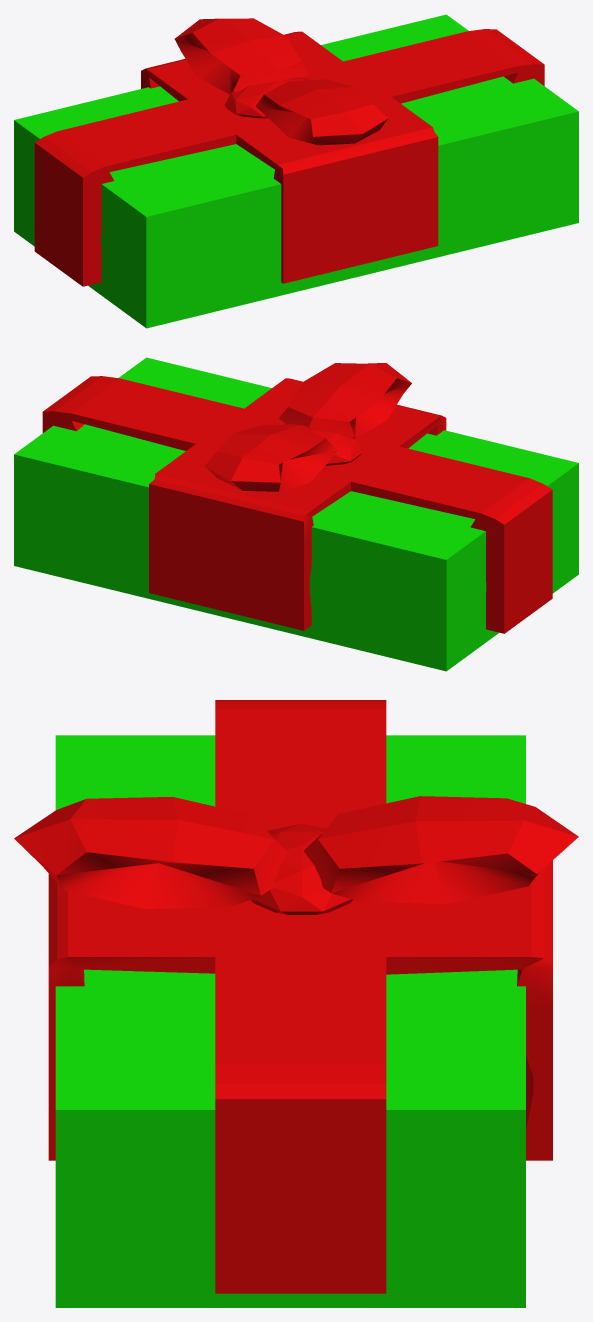
3 views of the same model, one above another, from view 1: azimuth 30°, elevation 25°; view 2: azimuth 150°, elevation 25°; view 3: azimuth 270°, elevation 25° (orthographic). The views are drawn at different scales.
Visible parts, largest first — view 1: Cube; view 2: Cube; view 3: Cube.
Part boxes in pixels (x1,y1,x2,y2): Cube: (14,14,578,328); Cube: (14,357,578,671); Cube: (14,700,578,1307).
Bounding box in the file's own units: 0.1054 × 0.0629 × 0.0357.
